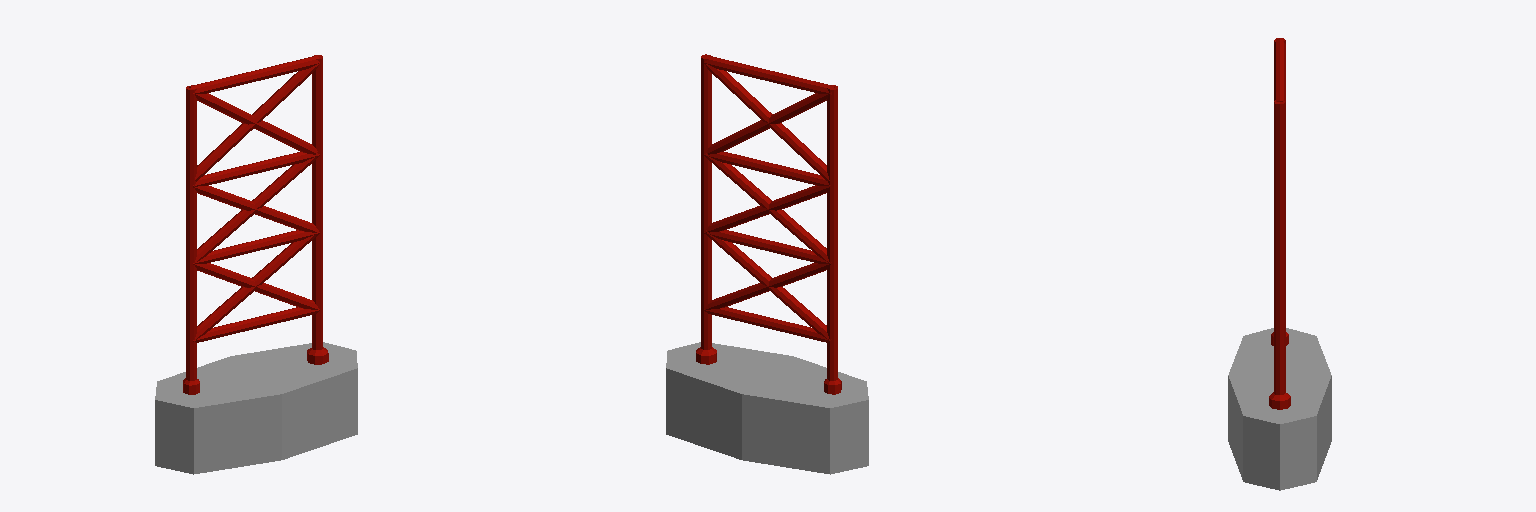
The model's file is suspensionbridgepillar.obj.
The picture shows the model from 3 angles: view 1: azimuth 30°, elevation 25°; view 2: azimuth 150°, elevation 25°; view 3: azimuth 270°, elevation 25°; orthographic projection.
Visible parts, largest first — view 1: Cylinder.001; view 2: Cylinder.001; view 3: Cylinder.001.
Boxes of the visible parts, <box> form: Cylinder.001: <box>155,55,357,474</box>; Cylinder.001: <box>666,54,868,474</box>; Cylinder.001: <box>1228,38,1331,490</box>.
Size of the model in its own units: 6.39 by 11.23 by 2.84.